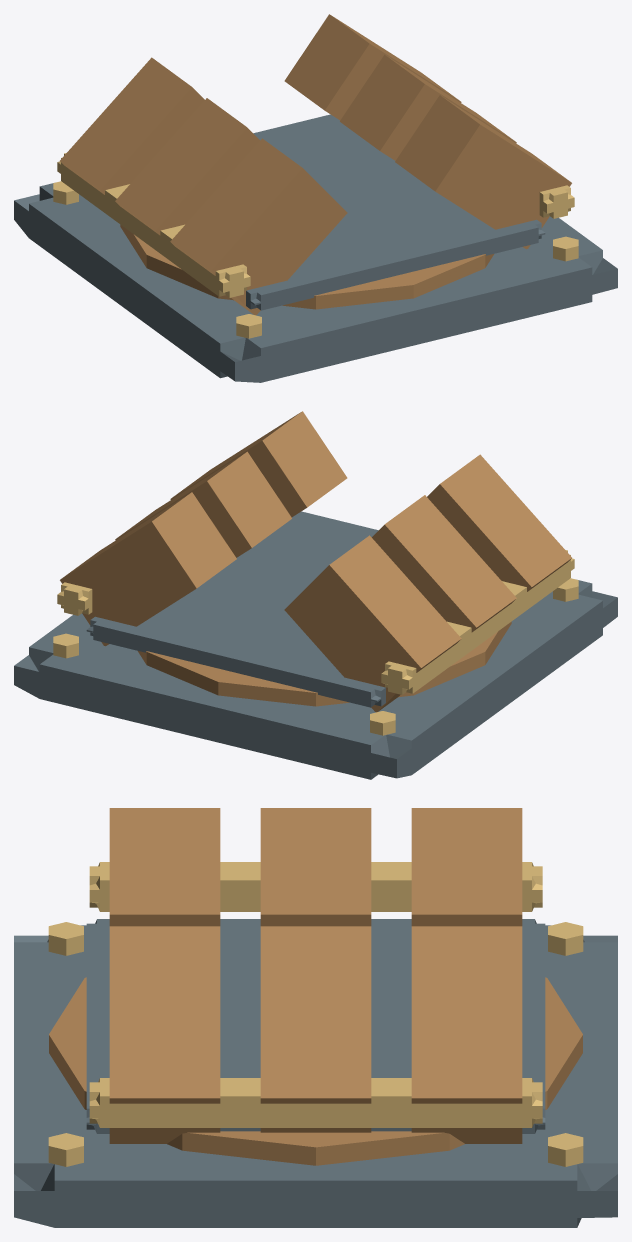
File: TrapPitfall.fbx
The picture shows the model from 3 angles, top to bottom: view 1: azimuth 30°, elevation 25°; view 2: azimuth 150°, elevation 25°; view 3: azimuth 270°, elevation 25°; orthographic projection. The views are drawn at different scales.
Parts seen in each view (by area): view 1: TrapPitfall.002; view 2: TrapPitfall.002; view 3: TrapPitfall.002.
Part boxes in pixels (left/top/right/bottom): TrapPitfall.002: left=14, top=14, right=617, bottom=382; TrapPitfall.002: left=14, top=411, right=617, bottom=779; TrapPitfall.002: left=14, top=808, right=617, bottom=1227.
Size of the model in its own units: 104 by 44.27 by 104.
